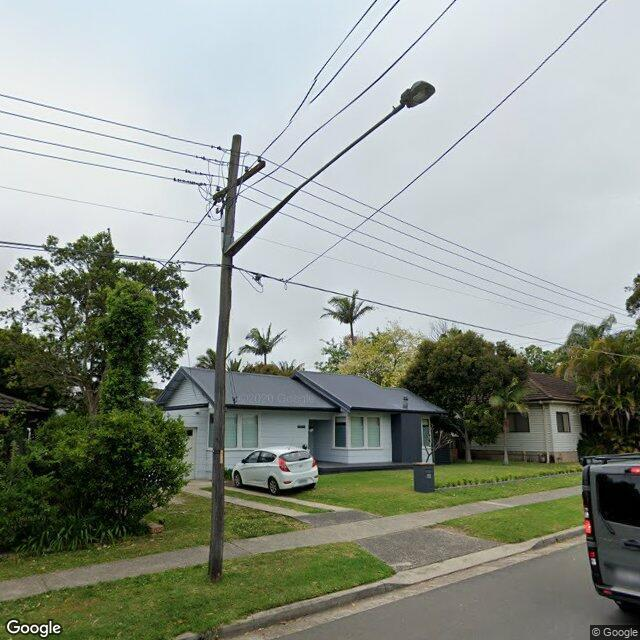crossarm: (213, 160, 266, 200)
streetlight: (228, 80, 437, 258)
timber-pole: (206, 134, 244, 582)
